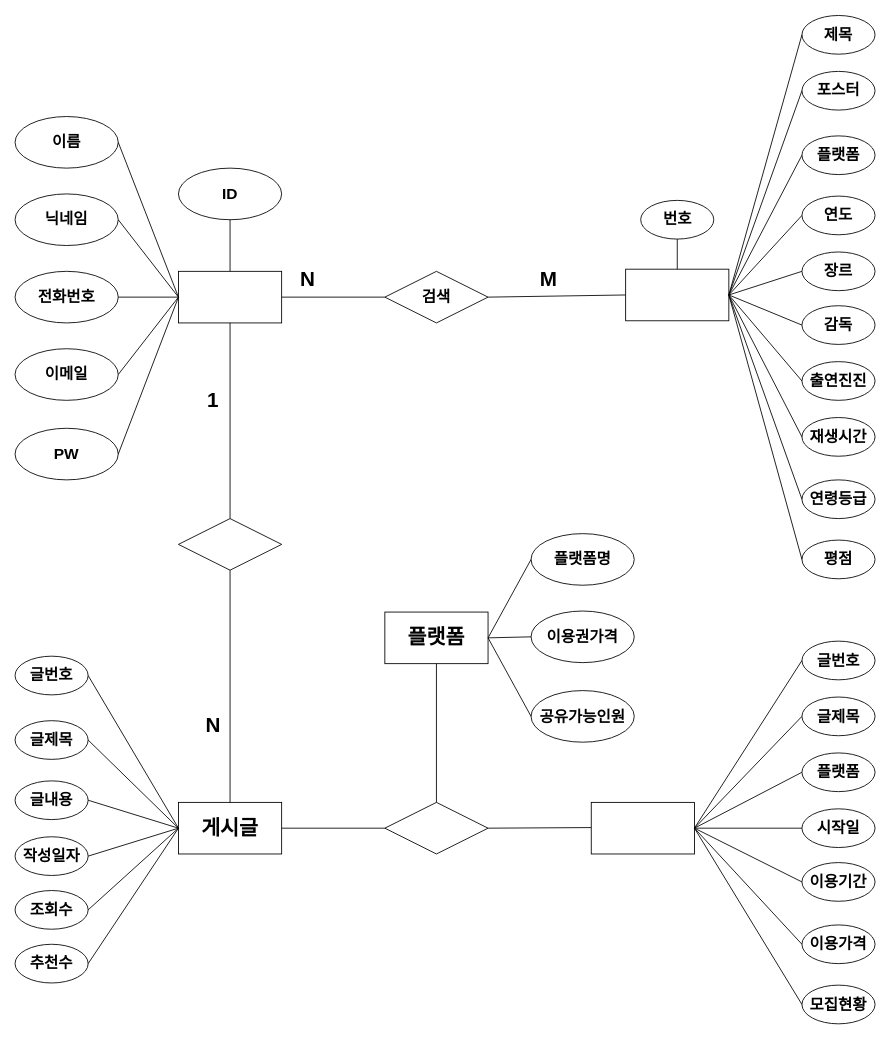
Image size: 890x1039. Some labels were removed from this diagram. Here are the shapes that lost their labels. From the top down, the box of each, then its label:
(178, 270, 282, 323): 회원
(625, 268, 729, 321): OTT
(178, 518, 282, 570): 작성
(384, 802, 488, 854): 파티모집
(590, 802, 694, 854): 파티
